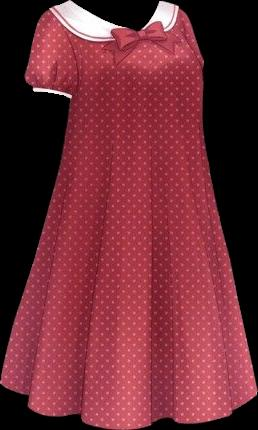Bodice: (48, 0, 211, 181)
Hemline: (0, 380, 257, 429)
Neckline: (68, 0, 164, 32)
Skirt: (0, 182, 257, 429)
Sleeve: (24, 10, 77, 97)
Sleeveline: (46, 7, 80, 74)
Waistline: (48, 7, 181, 42)
